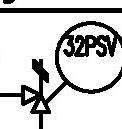psv: (20, 58, 51, 114)
